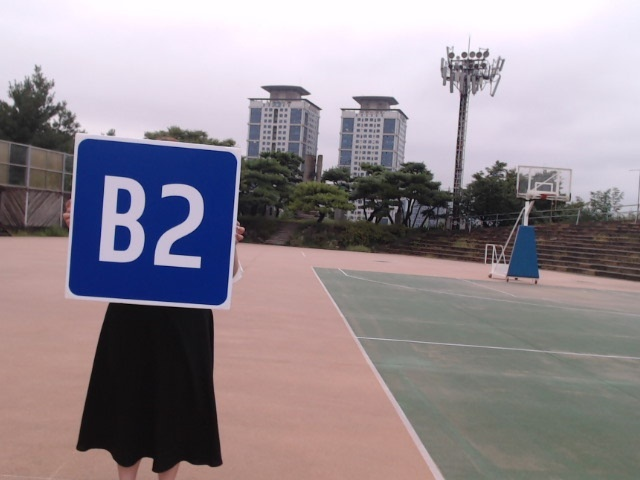delivery_b2: (66, 135, 239, 308)
